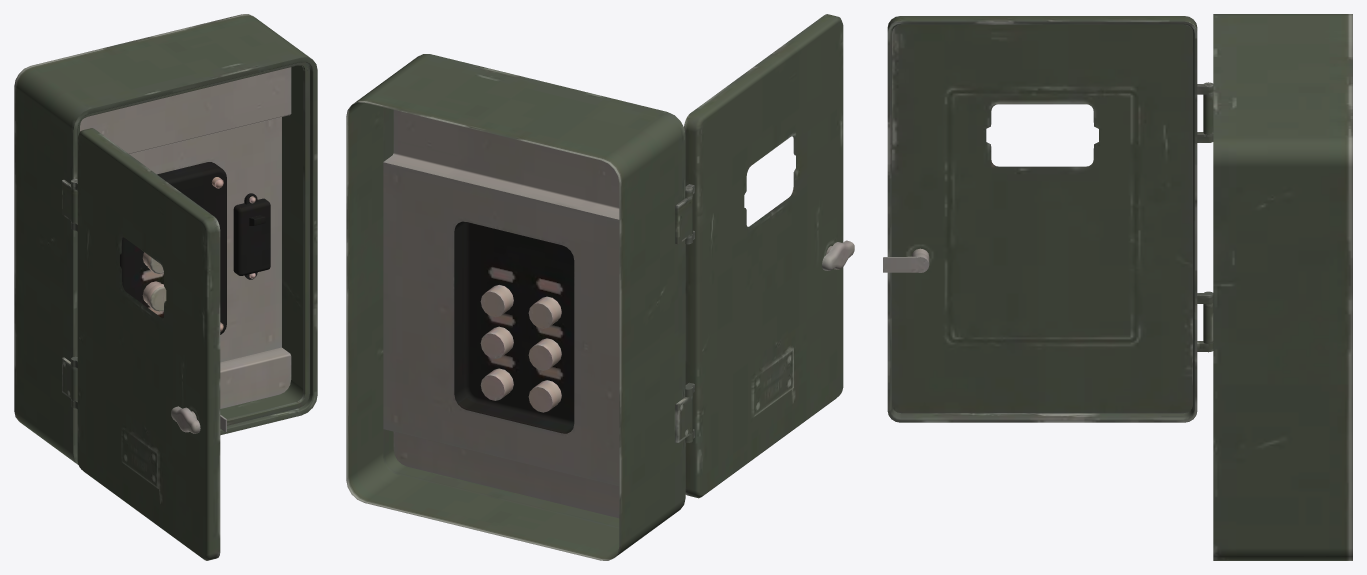
The model's file is e_cuadro_vintage.glb.
3 views of the same model, side by side, from view 1: azimuth 30°, elevation 25°; view 2: azimuth 150°, elevation 25°; view 3: azimuth 270°, elevation 25° (orthographic). The views are drawn at different scales.
Parts seen in each view (by area): view 1: Fuse_Box_WIP_0; view 2: Fuse_Box_WIP_0; view 3: Fuse_Box_WIP_0.
Part boxes in pixels (box(x1,y1,x2,y2)): Fuse_Box_WIP_0: box(14, 14, 317, 560); Fuse_Box_WIP_0: box(346, 14, 854, 560); Fuse_Box_WIP_0: box(883, 14, 1352, 560).
Size of the model in its own units: 0.5335 by 0.7 by 0.7073.
1 material, 1 textured.
